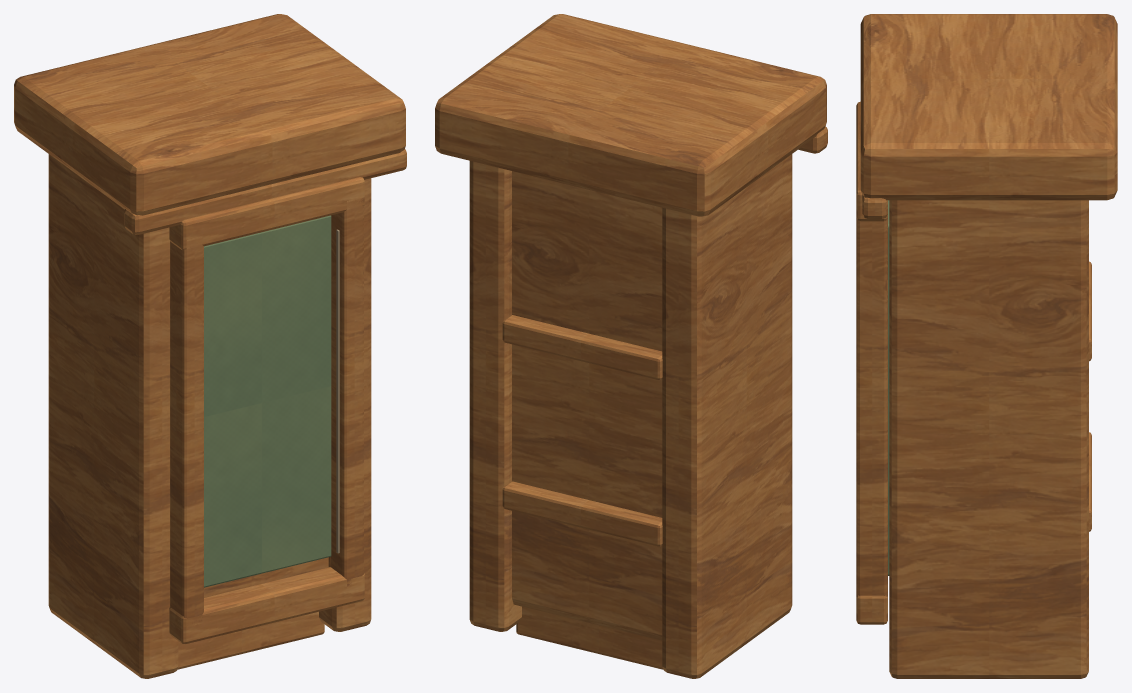
File: WC_CAFE_Counter_Short_A.glb
The picture shows the model from 3 angles, left to right: view 1: azimuth 30°, elevation 25°; view 2: azimuth 150°, elevation 25°; view 3: azimuth 270°, elevation 25°; orthographic projection. The views are drawn at different scales.
Visible parts, largest first — view 1: WC_CAFE_Counter_Short_A_RenderMesh; view 2: WC_CAFE_Counter_Short_A_RenderMesh; view 3: WC_CAFE_Counter_Short_A_RenderMesh.
Part boxes in pixels (bbox=[...]): WC_CAFE_Counter_Short_A_RenderMesh: bbox=[14, 14, 406, 678]; WC_CAFE_Counter_Short_A_RenderMesh: bbox=[435, 14, 827, 678]; WC_CAFE_Counter_Short_A_RenderMesh: bbox=[856, 14, 1117, 678].
Size of the model in its own units: 0.57 by 1.08 by 0.4575.
5 materials, 4 textured.
